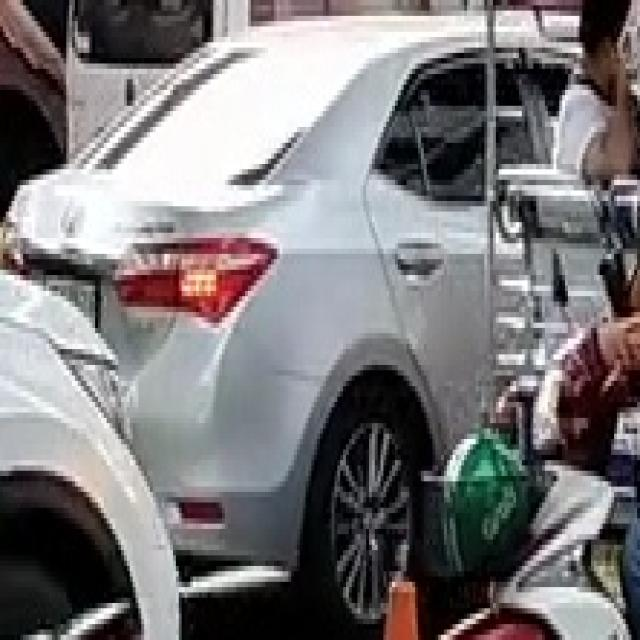door: (487, 6, 614, 444), (363, 42, 493, 466)
helmet: (438, 423, 531, 577)
tyre: (297, 365, 432, 629)
